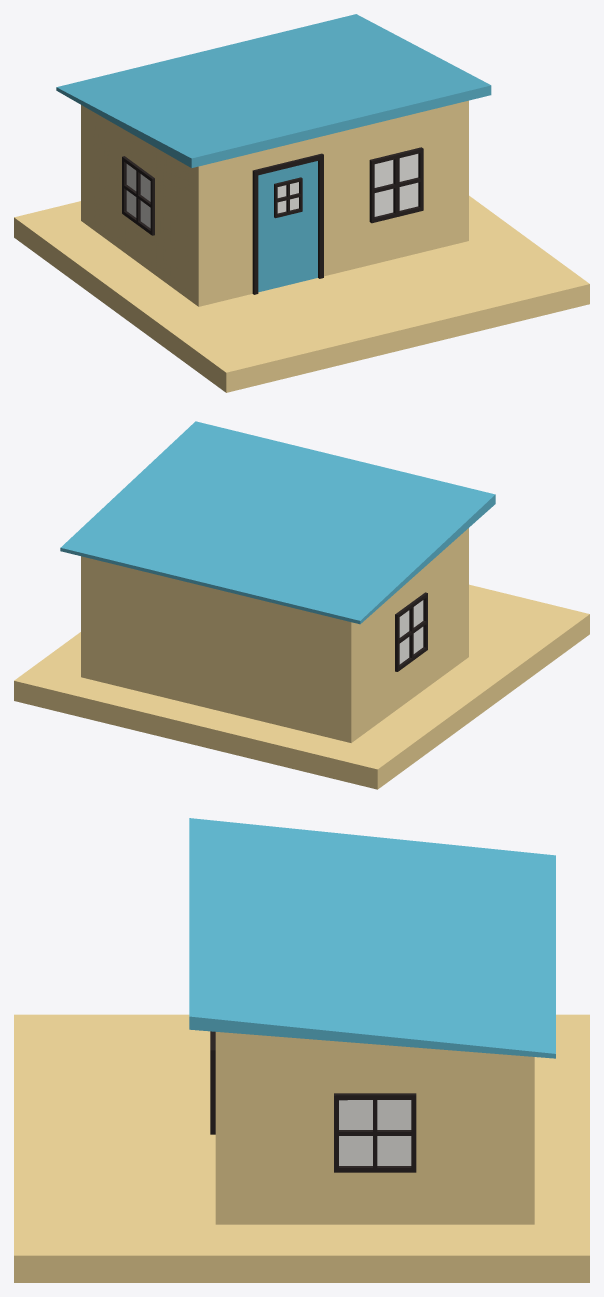
Rendered from House 03 B.FBX.
3 views of the same model, one above another, from view 1: azimuth 30°, elevation 25°; view 2: azimuth 150°, elevation 25°; view 3: azimuth 270°, elevation 25° (orthographic). The views are drawn at different scales.
Visible parts, largest first — view 1: Box001; view 2: Box001; view 3: Box001.
Boxes of the visible parts, x1=… form: Box001: x1=14, y1=14, x2=589, y2=392; Box001: x1=14, y1=421, x2=589, y2=789; Box001: x1=14, y1=818, x2=589, y2=1282.
Bounding box in the file's own units: 21.51 × 10.16 × 21.75.
